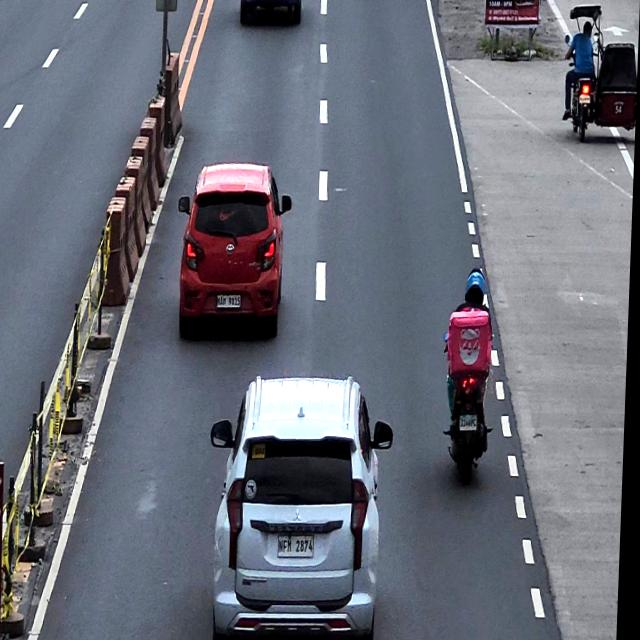Car: (207, 374, 399, 638), (176, 162, 295, 338)
License-Plate: (279, 532, 320, 560), (217, 292, 246, 310), (461, 411, 482, 433), (579, 93, 592, 105)
Motorcycle: (441, 306, 498, 483)
Tricycle: (562, 4, 640, 145)
